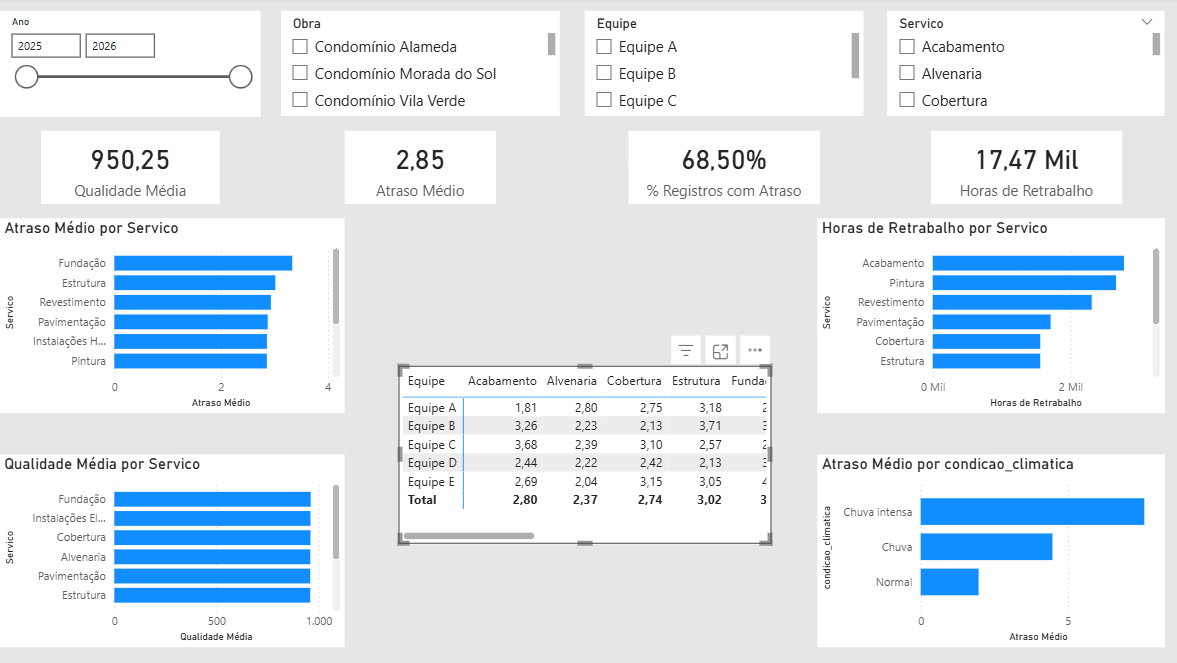

The dashboard page shown, as its layout file describes it:
{"tool":"powerbi","page":{"name":"Qualidade e Atrasos","canvas":[1280,720],"ordinal":2},"visuals":[{"type":"slicer","fields":{"Values":["Dim_Data.Ano"]},"box":[9.4,14.8,280.5,113.3],"z":0},{"type":"slicer","fields":{"Values":["Dim_Obra.Obra"]},"box":[312.9,14.8,300.8,113.3],"z":1000},{"type":"slicer","fields":{"Values":["Dim_Equipe.Equipe"]},"box":[640.7,14.8,300.8,113.3],"z":2000},{"type":"slicer","fields":{"Values":["Dim_Servico.Servico"]},"box":[967.1,14.8,299.4,113.3],"z":3000},{"type":"card","fields":{"Values":["Fato_Obras.Qualidade Média"]},"box":[54,144.3,192.9,79.6],"z":4000},{"type":"card","fields":{"Values":["Fato_Obras.Atraso Médio"]},"box":[381.7,144.3,163.2,79.6],"z":5000},{"type":"card","fields":{"Values":["Fato_Obras.% Registros com Atraso"]},"box":[687.9,144.3,206.4,79.6],"z":6000},{"type":"card","fields":{"Values":["Fato_Obras.Horas de Retrabalho"]},"box":[1014.3,144.3,206.4,79.6],"z":7000},{"type":"clusteredBarChart","fields":{"Y":["Fato_Obras.Atraso Médio"],"Category":["Dim_Servico.Servico"]},"box":[9.4,238.7,372.3,210.4],"z":8000},{"type":"clusteredBarChart","fields":{"Category":["Fato_Obras.condicao_climatica"],"Y":["Fato_Obras.Atraso Médio"]},"box":[891.9,493.9,374.4,207.7],"z":9000},{"type":"clusteredBarChart","fields":{"Category":["Dim_Servico.Servico"],"Y":["Fato_Obras.Qualidade Média"]},"box":[9.4,493.7,372.3,207.7],"z":10000},{"type":"clusteredBarChart","fields":{"Y":["Fato_Obras.Horas de Retrabalho"],"Category":["Dim_Servico.Servico"]},"box":[891.5,238.7,375,210.4],"z":11000},{"type":"pivotTable","fields":{"Rows":["Dim_Equipe.Equipe"],"Columns":["Dim_Servico.Servico"],"Values":["Fato_Obras.Atraso Médio"]},"box":[439.7,397.9,401.9,192.9],"z":12000}]}

Visuals, with their boxes in screenshot pixels (x1, y1, x2, y2), scaled from the page's 1280x720 canvas onto the 1177x663 screenshot:
slicer - Dim_Data.Ano: <region>9, 14, 267, 118</region>
slicer - Dim_Obra.Obra: <region>288, 14, 564, 118</region>
slicer - Dim_Equipe.Equipe: <region>589, 14, 866, 118</region>
slicer - Dim_Servico.Servico: <region>889, 14, 1165, 118</region>
card - Fato_Obras.Qualidade Média: <region>50, 133, 227, 206</region>
card - Fato_Obras.Atraso Médio: <region>351, 133, 501, 206</region>
card - Fato_Obras.% Registros com Atraso: <region>633, 133, 822, 206</region>
card - Fato_Obras.Horas de Retrabalho: <region>933, 133, 1122, 206</region>
clusteredBarChart - Fato_Obras.Atraso Médio x Dim_Servico.Servico: <region>9, 220, 351, 414</region>
clusteredBarChart - Fato_Obras.condicao_climatica x Fato_Obras.Atraso Médio: <region>820, 455, 1164, 646</region>
clusteredBarChart - Dim_Servico.Servico x Fato_Obras.Qualidade Média: <region>9, 455, 351, 646</region>
clusteredBarChart - Fato_Obras.Horas de Retrabalho x Dim_Servico.Servico: <region>820, 220, 1165, 414</region>
pivotTable - Dim_Equipe.Equipe x Dim_Servico.Servico: <region>404, 366, 774, 544</region>
